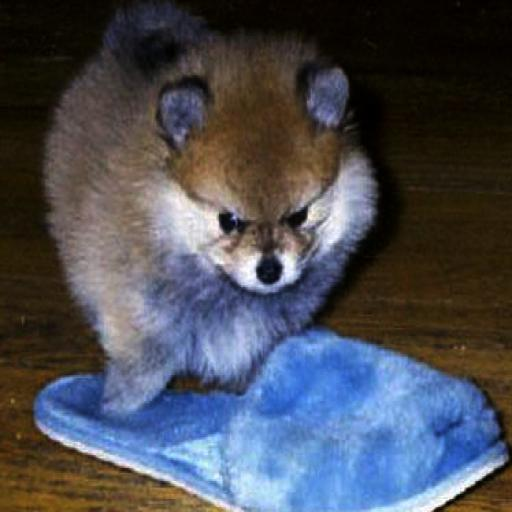dog_face: (148, 63, 343, 291)
